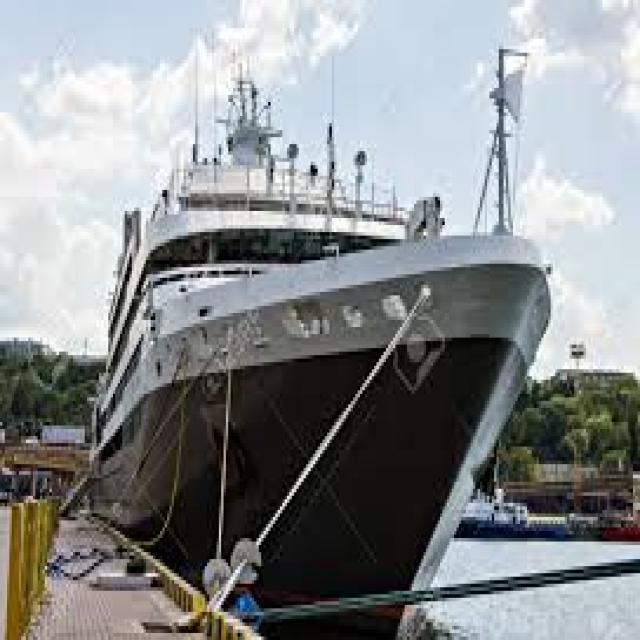passenger ship: (89, 60, 557, 635)
